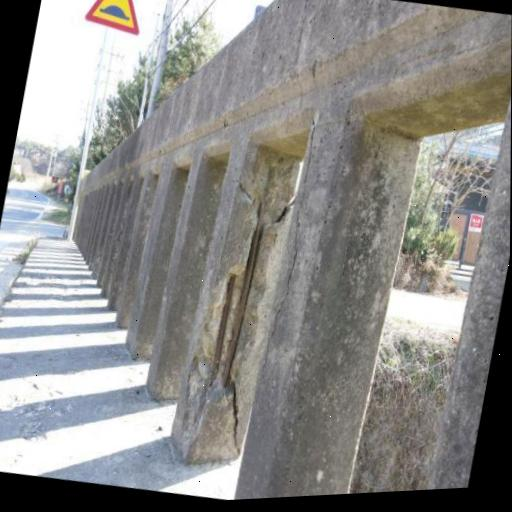exposed_rebar: (222, 178, 268, 387), (210, 274, 236, 382)
spalling: (183, 149, 295, 438)
